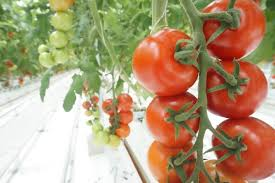tomato: (130, 30, 197, 97), (203, 59, 265, 122), (212, 117, 274, 178), (202, 2, 266, 61), (141, 93, 201, 146), (146, 138, 198, 179), (116, 93, 135, 111), (115, 124, 132, 139), (119, 110, 133, 125)
